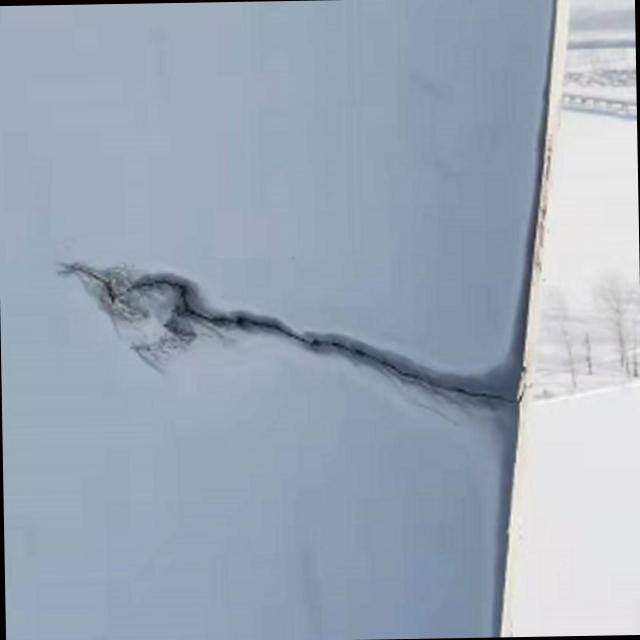crack: (63, 256, 516, 411)
